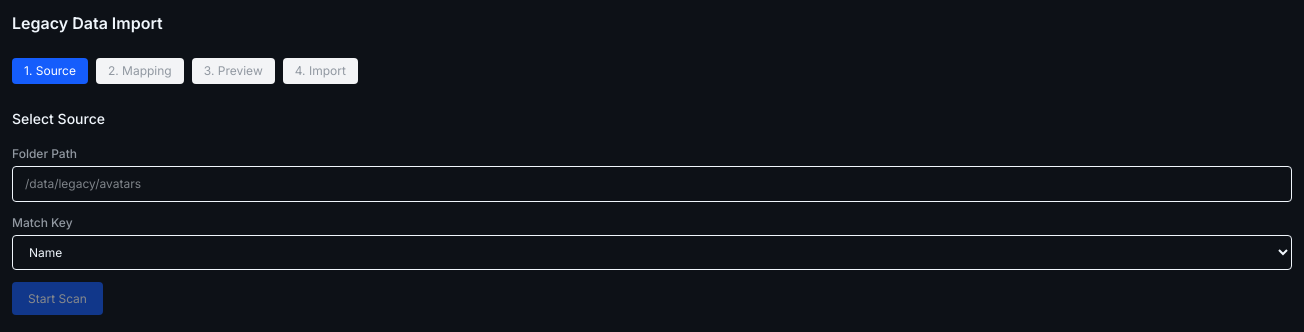
LegacyImportWizard › navigates to mapping step when step button clicked
Click the button with test id "step-mapping": (140, 71) [96,58,184,84]
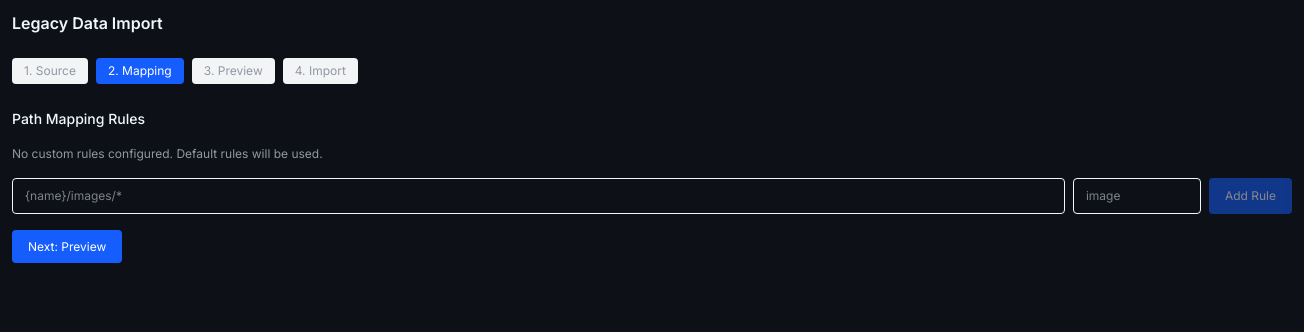
Check: the element with test id "mapping-config" is shown, box [12,108,1292,214]
